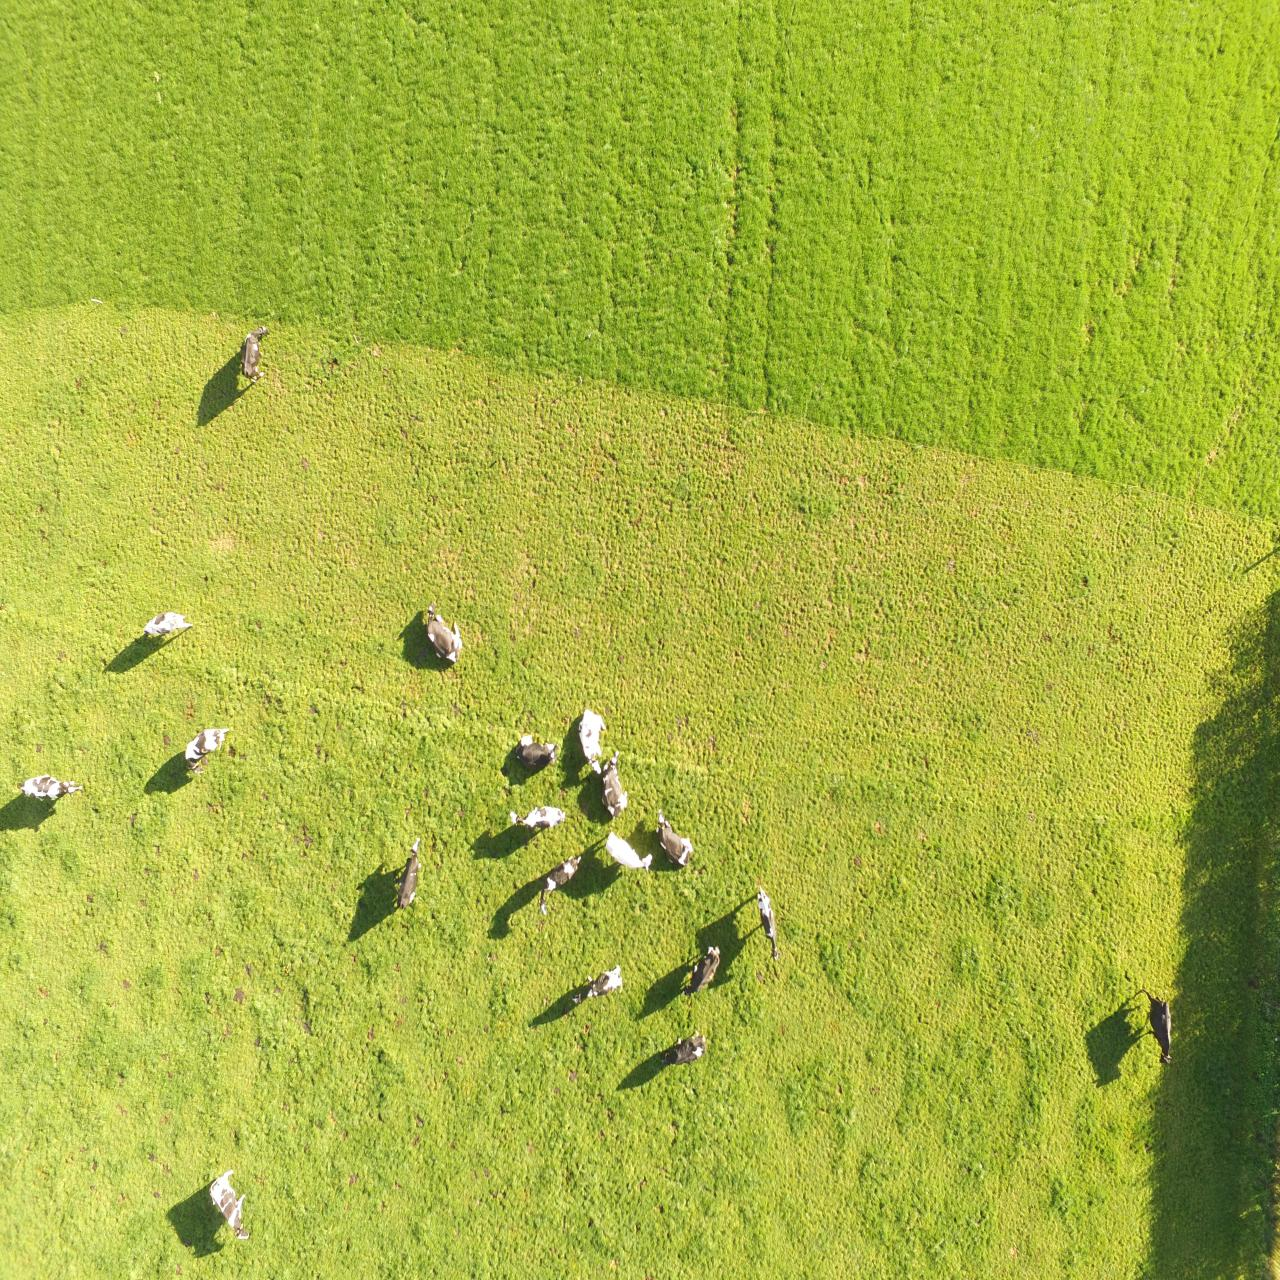cow: (537, 849, 583, 922), (1138, 985, 1177, 1063), (210, 1172, 252, 1240), (15, 768, 86, 806), (427, 600, 467, 668), (392, 831, 423, 917), (655, 809, 697, 871), (570, 961, 624, 1007), (233, 319, 271, 384), (182, 721, 230, 771), (577, 706, 611, 776), (508, 733, 561, 776), (680, 940, 722, 995), (600, 748, 631, 818), (602, 830, 649, 874), (142, 606, 192, 647), (756, 884, 782, 964), (656, 1030, 707, 1067), (509, 802, 565, 824)
